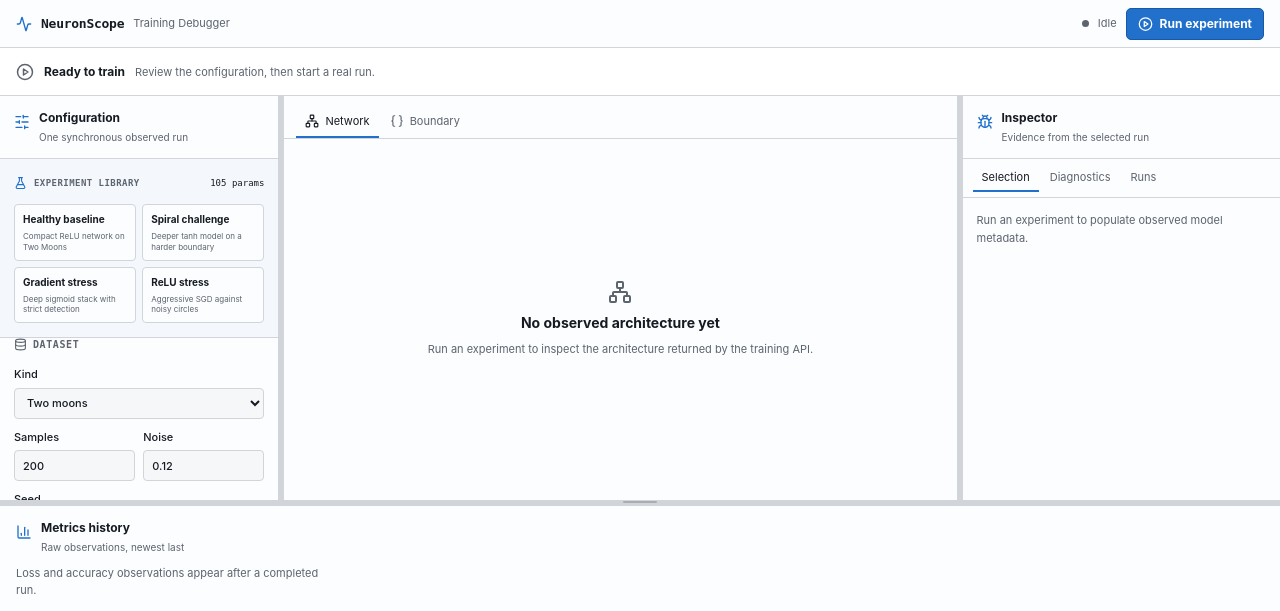
it: App › cancels a request and ignores its late response
Step 1. Click the button "Run experiment" → [1195, 24], box [1126,8,1264,40]
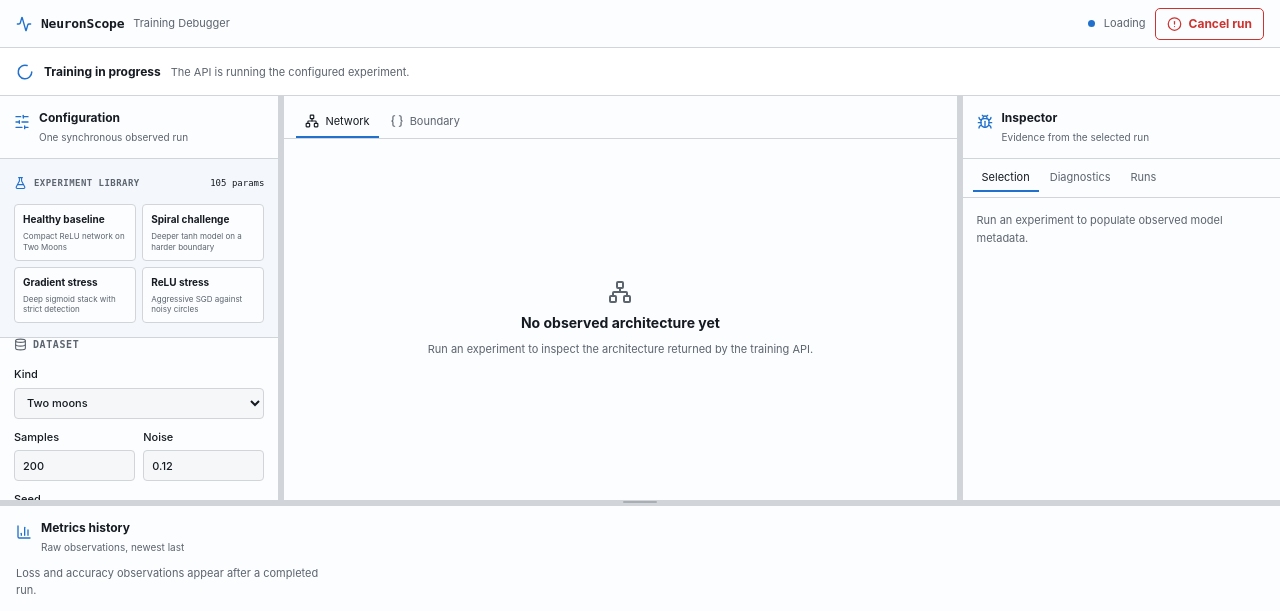
Check: the button "Cancel run" is shown
Step 2. Click the button "Cancel run" → [1209, 24], box [1154,8,1264,40]
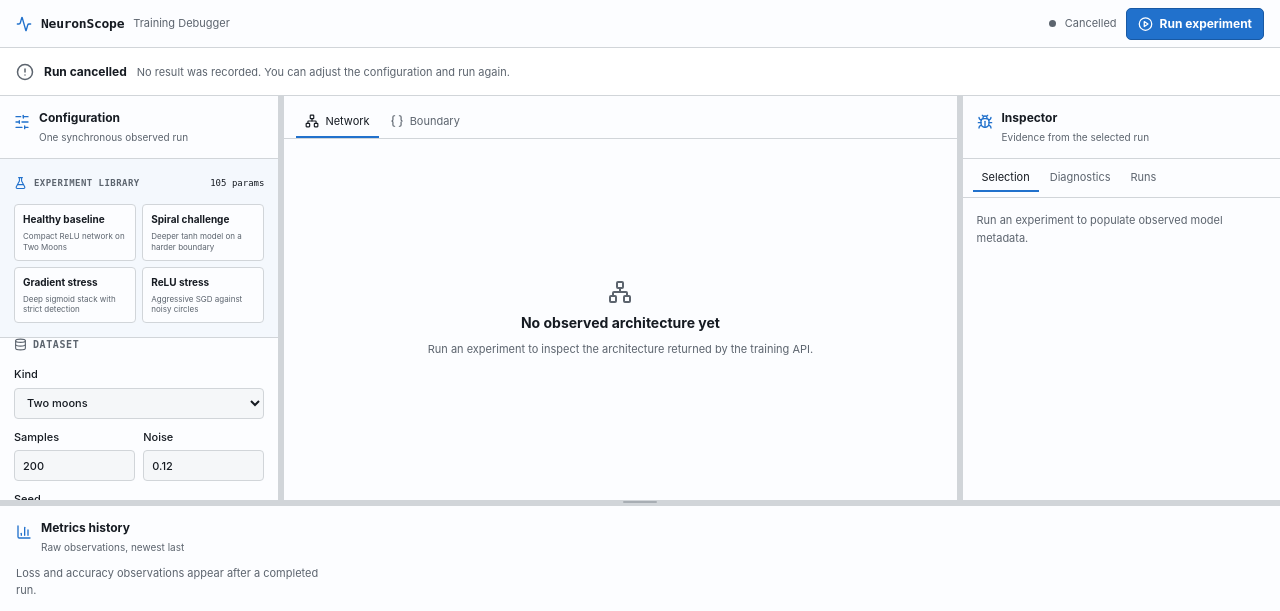
Check: the text "Run cancelled" is shown, box [44,62,127,80]
